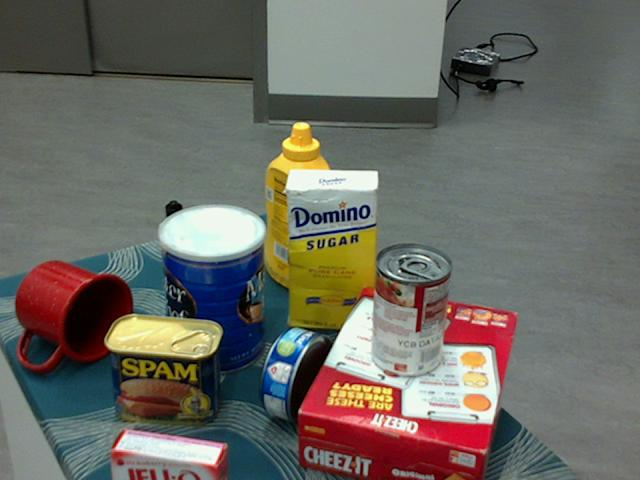cracker_box: (297, 288, 516, 479)
gelatin_box: (107, 426, 223, 479)
large_marker: (165, 199, 184, 299)
master_chef_can: (158, 204, 265, 376)
mug: (14, 259, 132, 370)
mustard_bottle: (264, 122, 334, 295)
potted_meat_can: (104, 312, 221, 424)
sugar_box: (286, 168, 378, 332)
tomato_soup_can: (368, 244, 451, 378)
tuna_fish_can: (260, 327, 333, 424)
